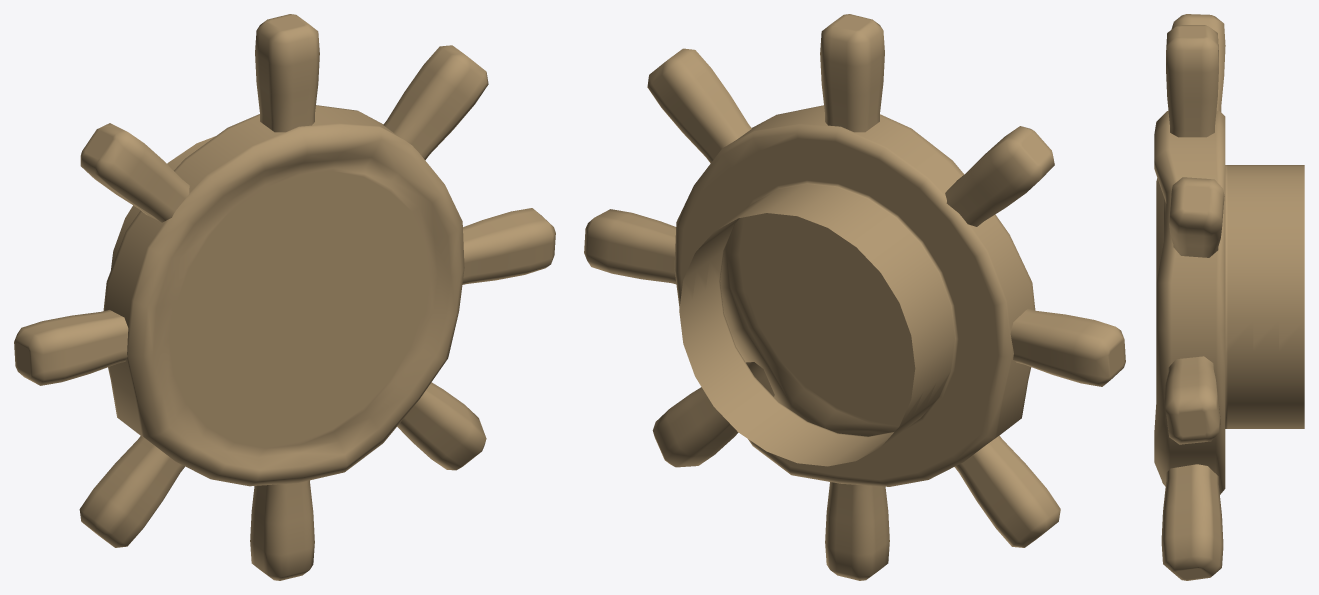
The model's file is Winch_01.fbx.
The picture shows the model from 3 angles, left to right: view 1: azimuth 30°, elevation 25°; view 2: azimuth 150°, elevation 25°; view 3: azimuth 270°, elevation 25°; orthographic projection. The views are drawn at different scales.
Parts seen in each view (by area): view 1: Winch_01; view 2: Winch_01; view 3: Winch_01.
Boxes of the visible parts, x1,y1,x2,y2 form: Winch_01: [14, 14, 555, 580]; Winch_01: [584, 14, 1125, 580]; Winch_01: [1154, 14, 1304, 580].
Bounding box in the file's own units: 1.55 × 1.55 × 0.3985.
